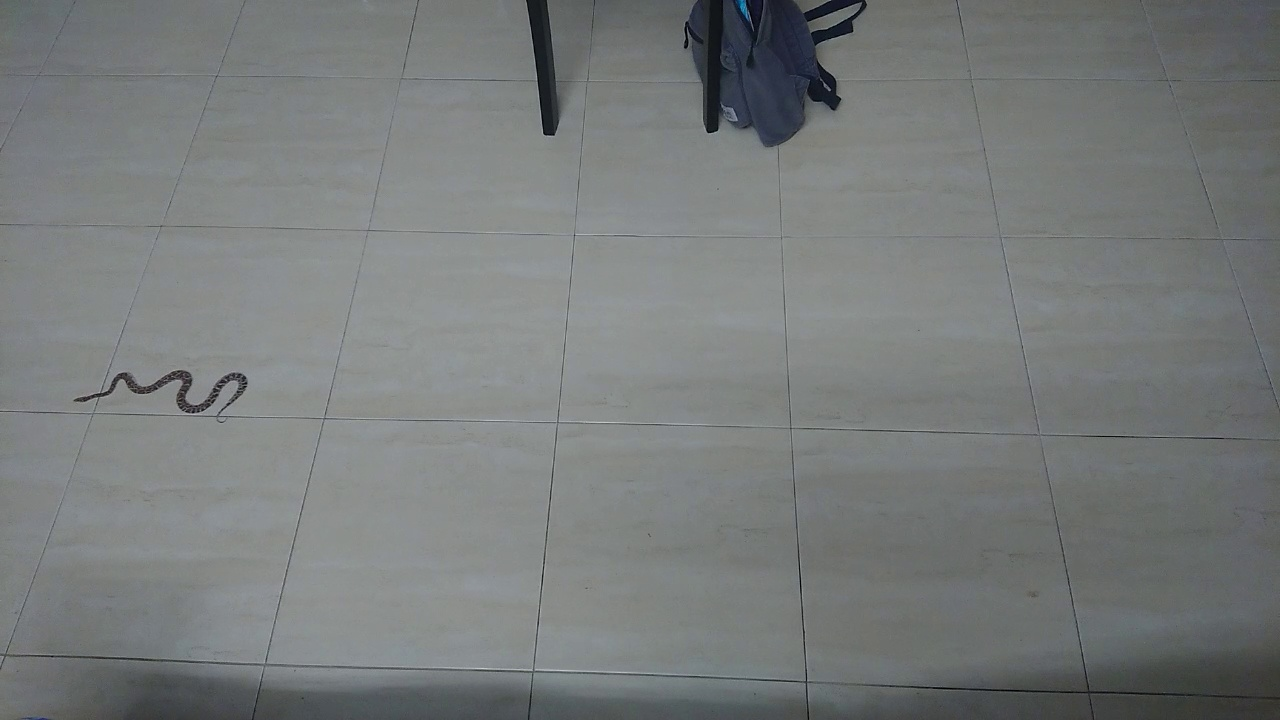snake: (53, 349, 263, 432)
